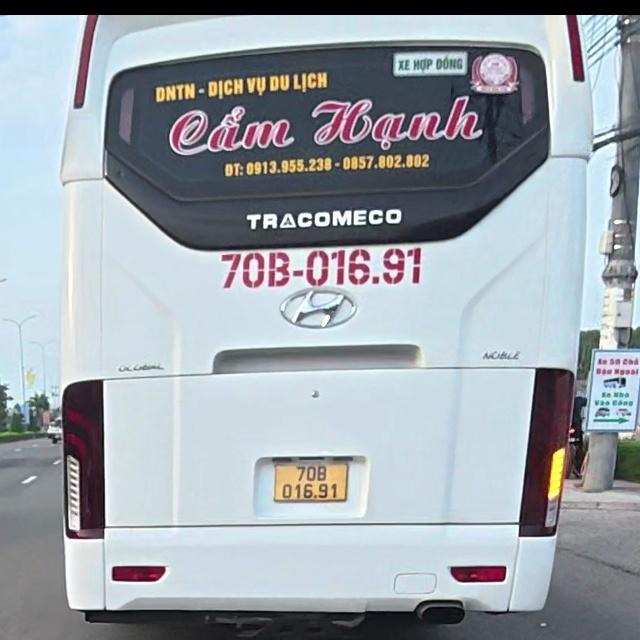license-plate: (273, 461, 348, 502)
